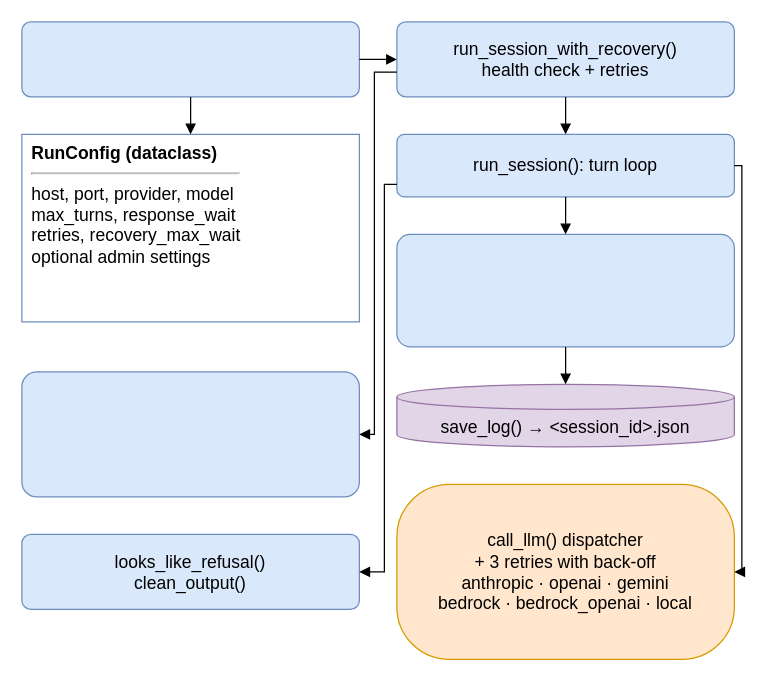
This 774x681 diagram has some shape labels left out. The shapes that lost their labels are listed below. From the top down, each one's centre as x and y in pixels, then its label:
the point at 190,59: main() / argparse or batch config file
the point at 565,290: HoneypotSession connect (Paramiko) _drain(): read until idle send_command()
the point at 190,434: probe_banner() wait_for_honeypot() restart_honeypot_remote() log_infra_event()
